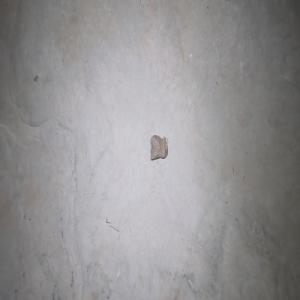Rock: (150, 133, 168, 160)
